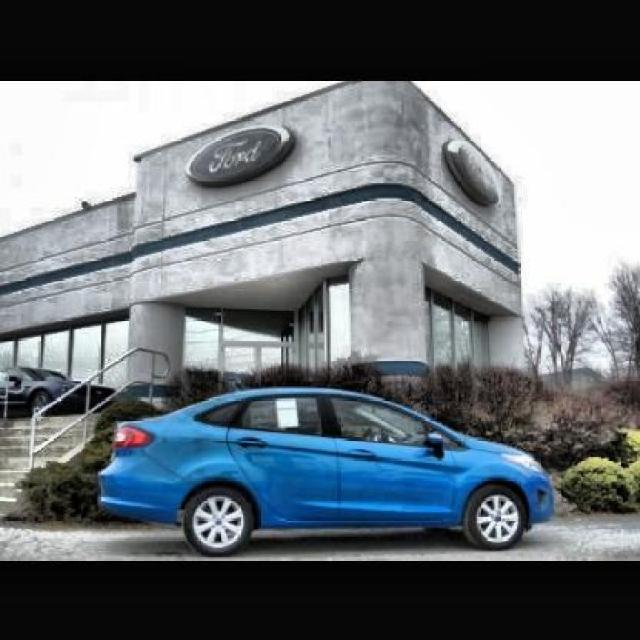blue: (100, 392, 572, 556)
